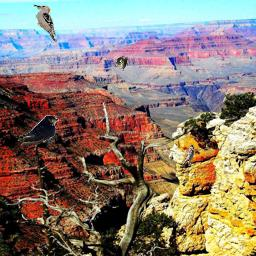Sparrow: (182, 144, 195, 167)
Swallow: (19, 115, 59, 146), (115, 56, 128, 72)
Woodpecker: (33, 3, 57, 43)
